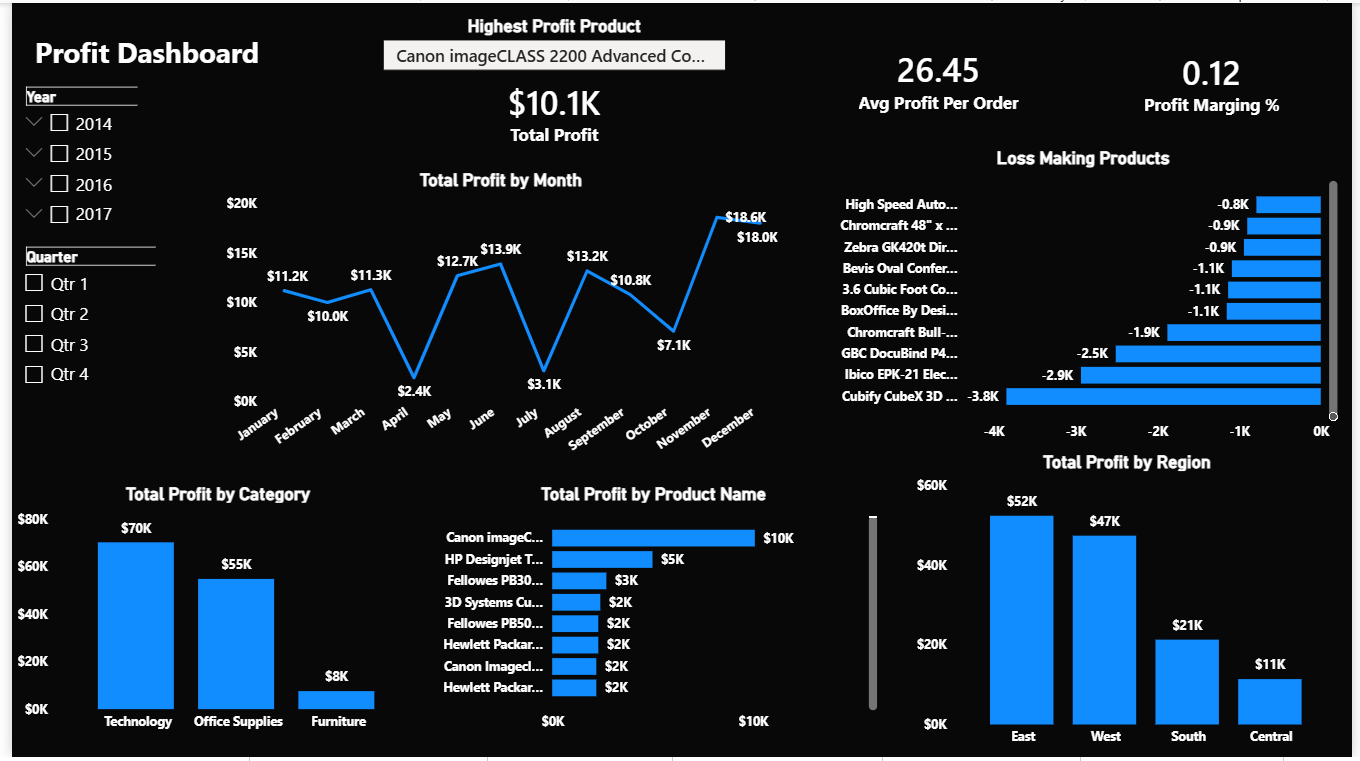

What the dashboard file says about the page in this screenshot:
{"tool":"powerbi","page":{"name":"3. Profit Dashboard","canvas":[1280,720],"ordinal":2},"visuals":[{"type":"cardVisual","fields":{"Data":["KPI Metrics.Profit Marging %"]},"box":[1045,27.5,203.8,95],"z":0},{"type":"cardVisual","fields":{"Data":["KPI Metrics.Avg Profit Per Order"]},"box":[786.2,25,198.8,95],"z":1000},{"type":"cardVisual","title":"Highest Profit Product","fields":{"Rows":["Sample - Superstore.Product Name"],"Data":["KPI Metrics.Total Profit"]},"box":[330,12.5,376.2,137.5],"z":2000},{"type":"lineChart","fields":{"Category":["Sample - Superstore.Order Date.Variation.Date Hierarchy.Month"],"Y":["KPI Metrics.Total Profit"]},"box":[197.5,158.8,538.8,290],"z":3000},{"type":"clusteredColumnChart","fields":{"Category":["Sample - Superstore.Category"],"Y":["KPI Metrics.Total Profit"]},"box":[0,458.8,393.8,246.2],"z":4000},{"type":"columnChart","fields":{"Category":["Sample - Superstore.Region"],"Y":["KPI Metrics.Total Profit"]},"box":[858.8,428.8,412.5,291.2],"z":5000},{"type":"clusteredBarChart","fields":{"Category":["Sample - Superstore.Product Name"],"Y":["KPI Metrics.Total Profit"]},"box":[393.8,458.8,437.5,246.2],"z":6000},{"type":"barChart","title":"Loss Making Products","fields":{"Category":["Sample - Superstore.Product Name"],"Y":["KPI Metrics.Loss Amount"]},"box":[775,138.8,496.2,290],"z":7000},{"type":"textbox","box":[17.5,22.5,231.2,50],"z":8000},{"type":"slicer","fields":{"Values":["Sample - Superstore.Order Date.Variation.Date Hierarchy.Year","Sample - Superstore.Order Date.Variation.Date Hierarchy.Quarter","Sample - Superstore.Order Date.Variation.Date Hierarchy.Month","Sample - Superstore.Order Date.Variation.Date Hierarchy.Day"]},"box":[0,75,132.5,166.2],"z":9000},{"type":"slicer","fields":{"Values":["Sample - Superstore.Order Date.Variation.Date Hierarchy.Quarter"]},"box":[0,227.5,150,151.2],"z":10000}]}

Visuals, with their boxes in screenshot pixels (x1, y1, x2, y2), scaled from the page's 1280x720 canvas onto the 1360x761 screenshot:
cardVisual - KPI Metrics.Profit Marging %: [1110, 29, 1327, 129]
cardVisual - KPI Metrics.Avg Profit Per Order: [835, 26, 1047, 127]
"Highest Profit Product" cardVisual: [351, 13, 750, 159]
lineChart - Sample - Superstore.Order Date.Variation.Date Hierarchy.Month x KPI Metrics.Total Profit: [210, 168, 782, 474]
clusteredColumnChart - Sample - Superstore.Category x KPI Metrics.Total Profit: [0, 485, 418, 745]
columnChart - Sample - Superstore.Region x KPI Metrics.Total Profit: [912, 453, 1351, 760]
clusteredBarChart - Sample - Superstore.Product Name x KPI Metrics.Total Profit: [418, 485, 883, 745]
"Loss Making Products" barChart: [823, 147, 1351, 453]
textbox: [19, 24, 264, 77]
slicer - Sample - Superstore.Order Date.Variation.Date Hierarchy.Year x Sample - Superstore.Order Date.Variation.Date Hierarchy.Quarter: [0, 79, 141, 255]
slicer - Sample - Superstore.Order Date.Variation.Date Hierarchy.Quarter: [0, 240, 159, 400]
